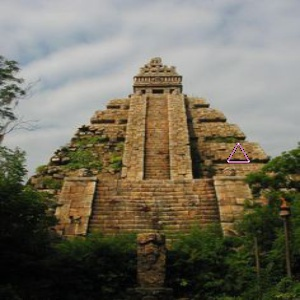triangle: (222, 140, 253, 166)
